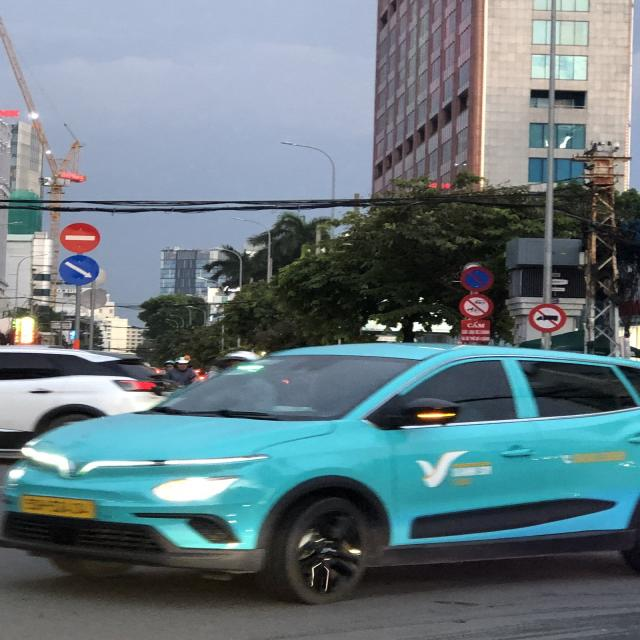Bien bao cam di nguoc chieu: (55, 220, 104, 252)
Bien bao cam do xe: (457, 264, 499, 292)
Bien bao cam xe so-mi ro-mooc: (527, 300, 569, 334)
Bien bao huong phai di vong chuong ngai vat: (54, 252, 101, 290)
